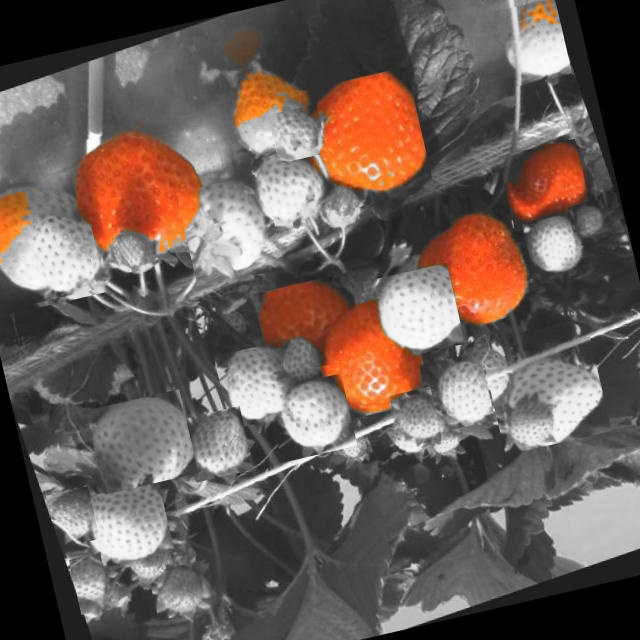ripe: (57, 117, 214, 281), (284, 66, 434, 216), (408, 201, 534, 343), (308, 292, 432, 422), (252, 272, 367, 378), (498, 138, 592, 231)
unripe: (484, 336, 612, 455), (0, 170, 97, 311), (176, 172, 284, 288), (85, 388, 198, 493), (362, 262, 465, 362), (238, 144, 332, 242), (15, 208, 106, 308), (79, 480, 174, 569), (214, 338, 306, 429), (265, 372, 357, 462), (493, 0, 572, 87), (419, 351, 495, 433), (182, 405, 254, 482), (522, 212, 586, 286), (148, 558, 219, 620), (389, 386, 444, 453), (268, 104, 328, 162), (46, 486, 100, 548), (68, 552, 112, 614), (568, 198, 614, 246)
